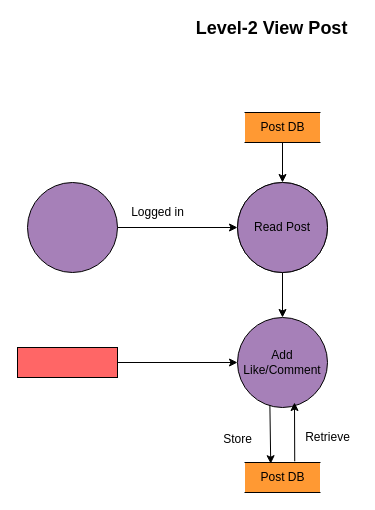
Image size: 375x510. Some labels were removed from this diagram. The centre of each missing label's shape, as x and y in pixels:
Check Authentication: the point at 72,227
User: the point at 67,362
